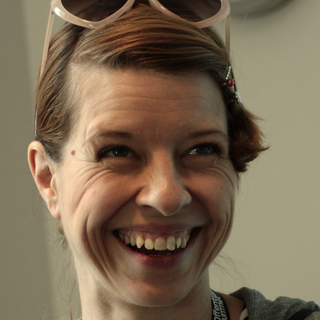eye: (87, 140, 143, 167), (173, 140, 226, 161)
